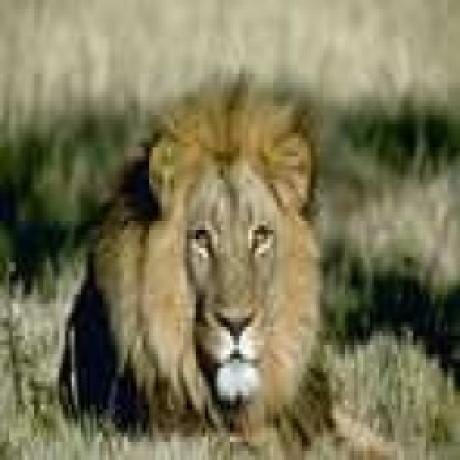Lion: (64, 74, 348, 451)
